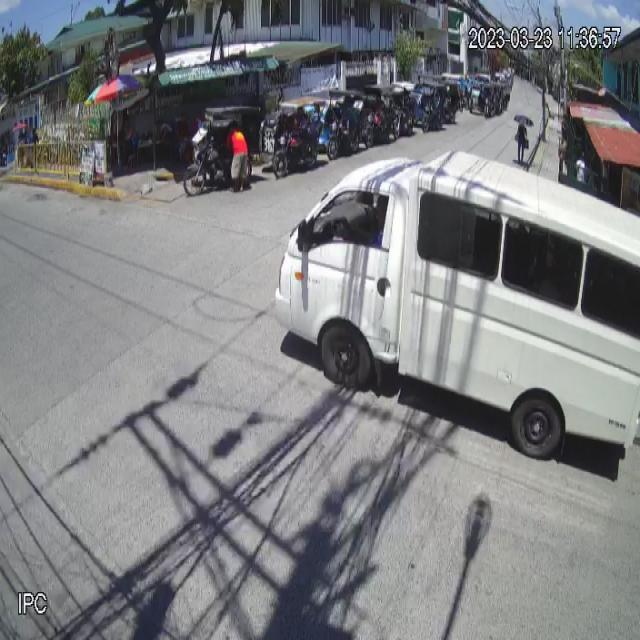Van: (275, 149, 640, 464)
